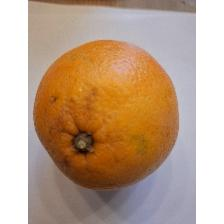Orange: (31, 36, 183, 193)
